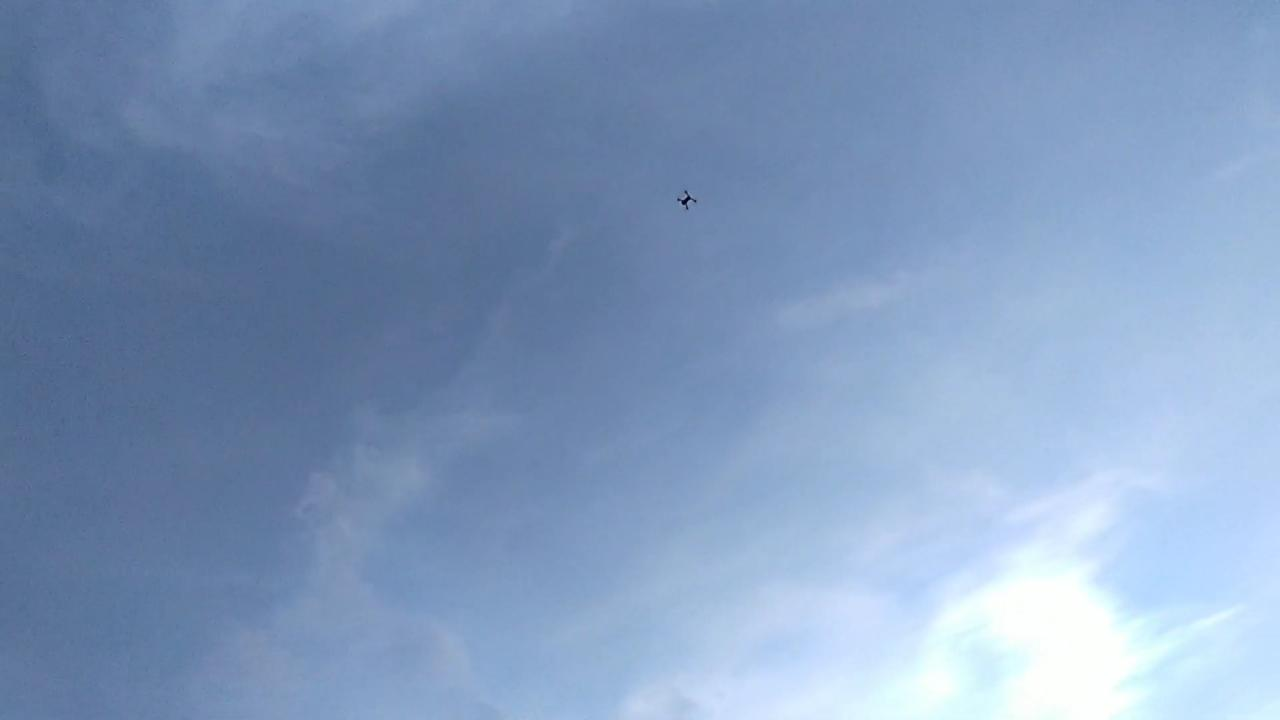Drone: (664, 181, 710, 221)
